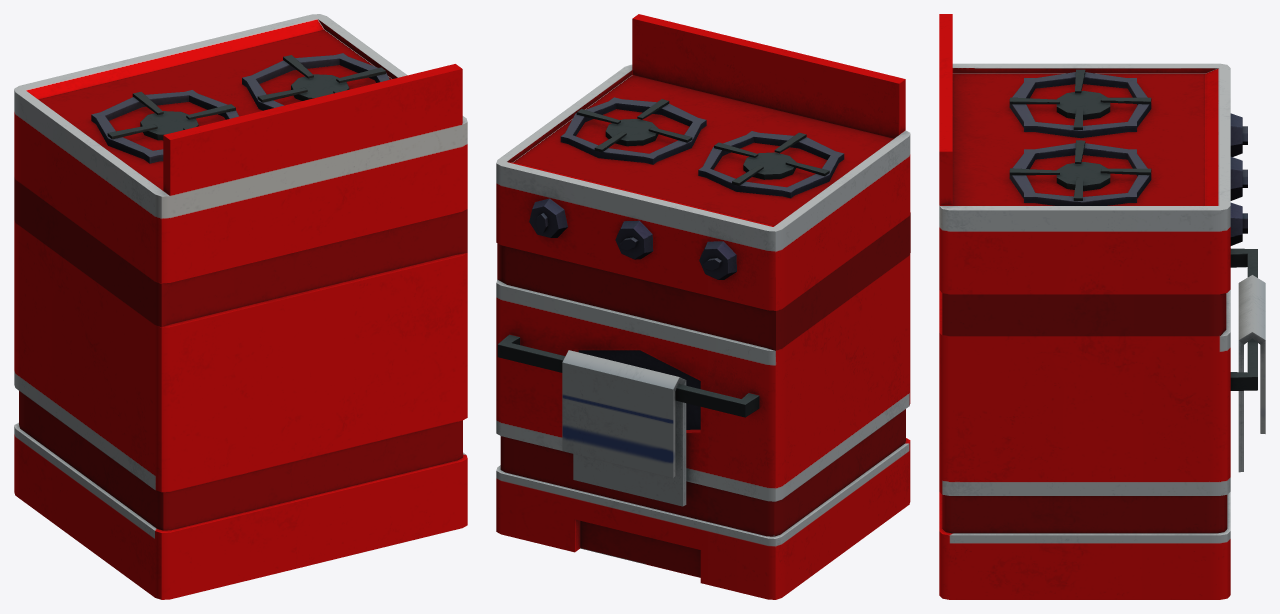
The model's file is Stove.fbx.
3 views of the same model, side by side, from view 1: azimuth 30°, elevation 25°; view 2: azimuth 150°, elevation 25°; view 3: azimuth 270°, elevation 25° (orthographic). The views are drawn at different scales.
Visible parts, largest first — view 1: pCylinder12; view 2: pCylinder12; view 3: pCylinder12.
Part boxes in pixels (x1,y1,x2,y2): pCylinder12: (14,14,467,599); pCylinder12: (496,14,910,599); pCylinder12: (939,14,1265,599).
Size of the model in its own units: 23.41 by 32.96 by 21.99.
Materials: 1 (1 with a texture image).
